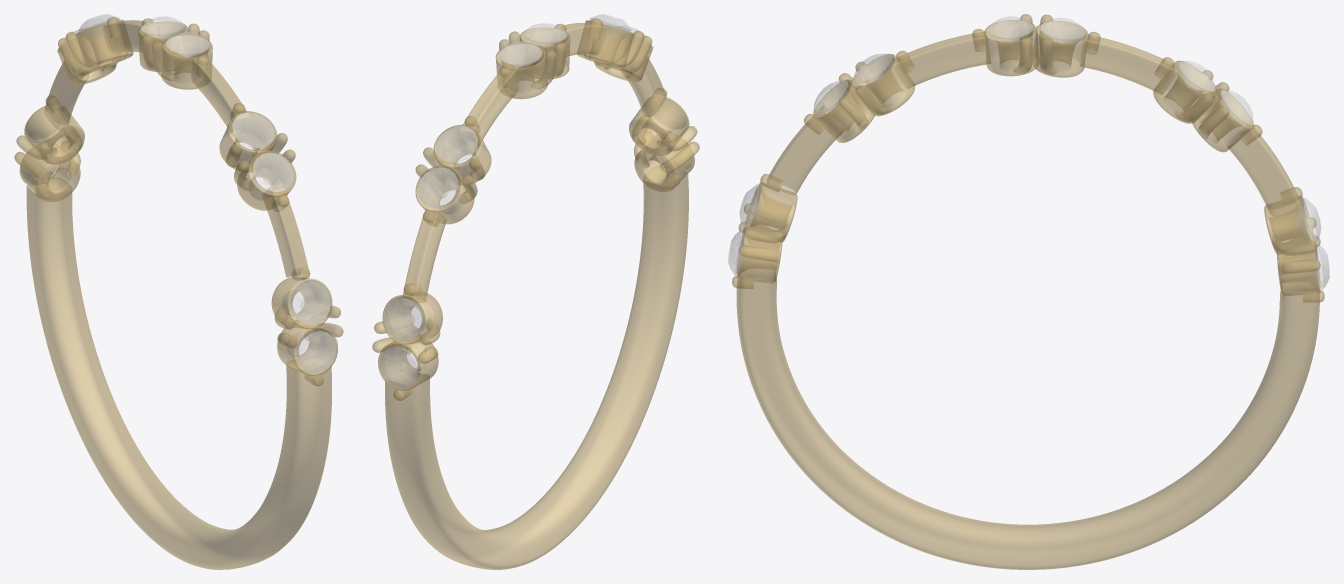
3 renders of one model, left to right at view 1: azimuth 30°, elevation 25°; view 2: azimuth 150°, elevation 25°; view 3: azimuth 270°, elevation 25°, orthographic. The views are drawn at different scales.
Visible parts, largest first — view 1: ring.001, Diamond; view 2: ring.001, Diamond; view 3: ring.001, Diamond.
Boxes of the visible parts, x1,y1,x2,y2 form: ring.001: (14,17,343,569); Diamond: (22,14,336,373); ring.001: (372,18,699,569); Diamond: (379,14,692,388); ring.001: (732,14,1324,569); Diamond: (728,16,1329,289).
Size of the model in its own units: 0.297 by 2.6 by 2.61.
